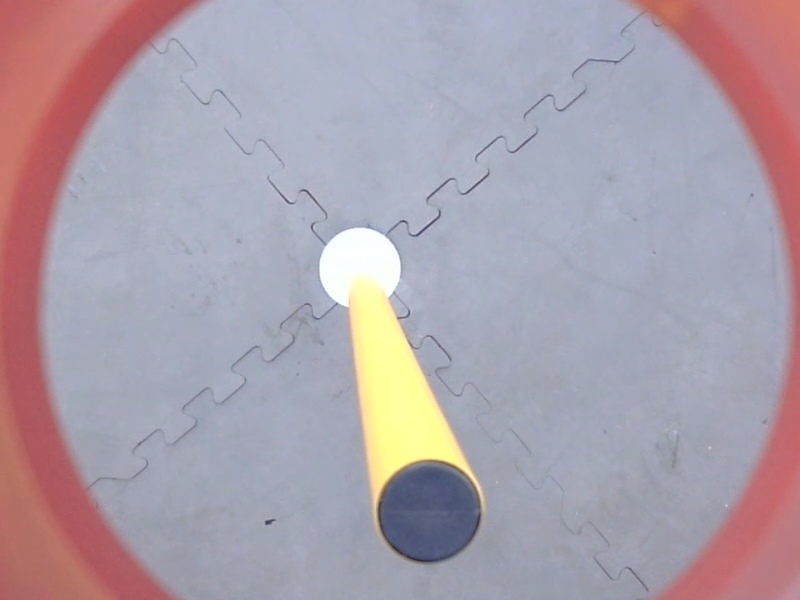tip: (370, 454, 488, 575)
